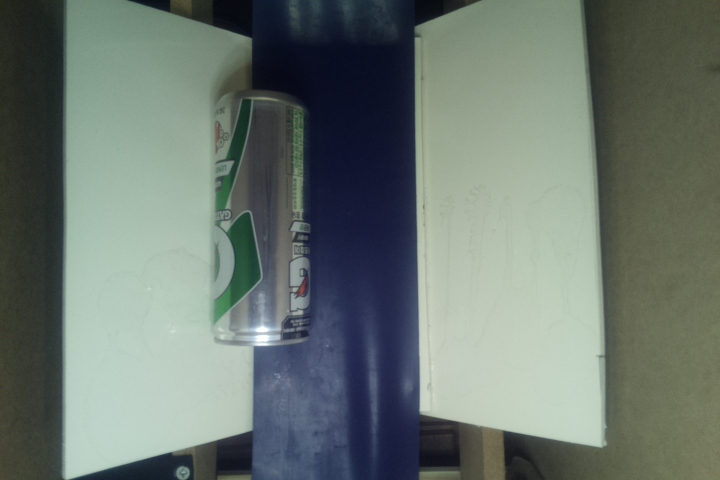can: (210, 90, 317, 349)
